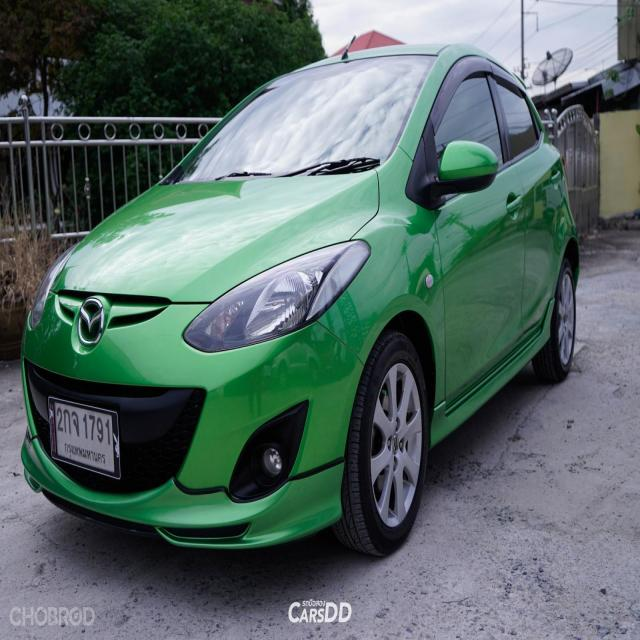license_plate: (48, 395, 125, 483)
